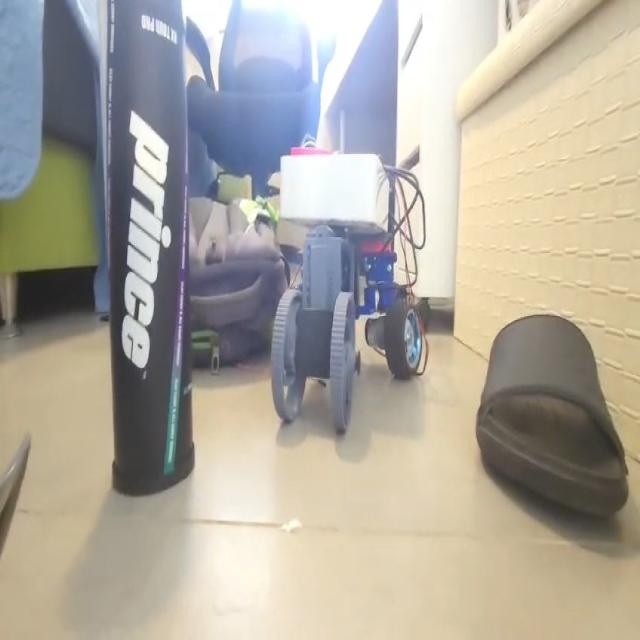Robot: (270, 142, 423, 436)
